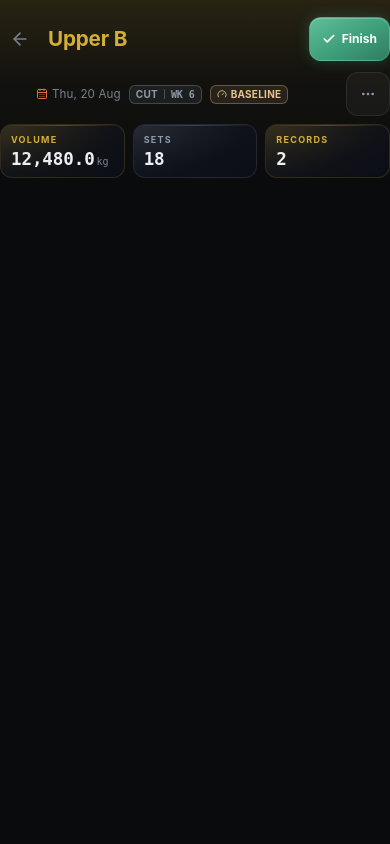
the live session hero › enables the muscle row the moment there is an answer
Click the button named "Session options": x=368, y=94 x1=346 y1=72 x2=389 y2=116
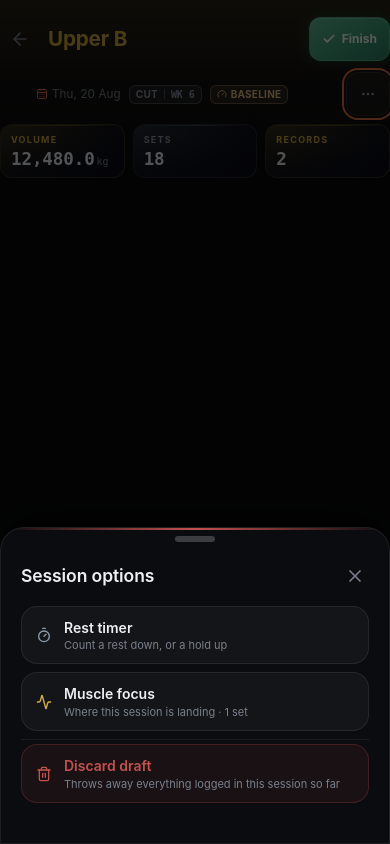
Check: the button "Muscle focus Where this session is landing · 1 set" is enabled, box x1=21 y1=672 x2=369 y2=731
